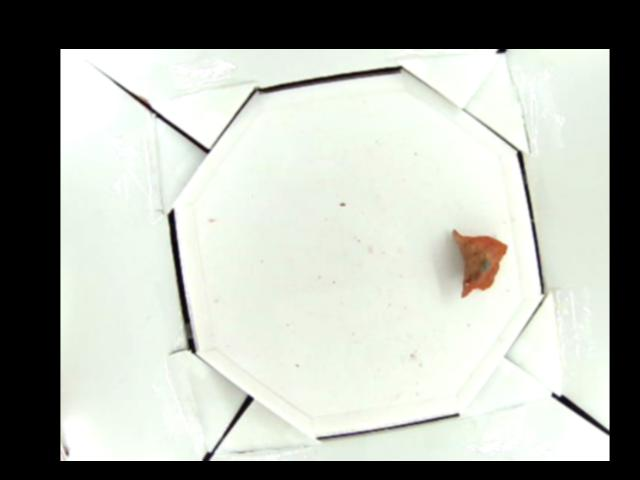Brisk: (451, 228, 508, 294)
